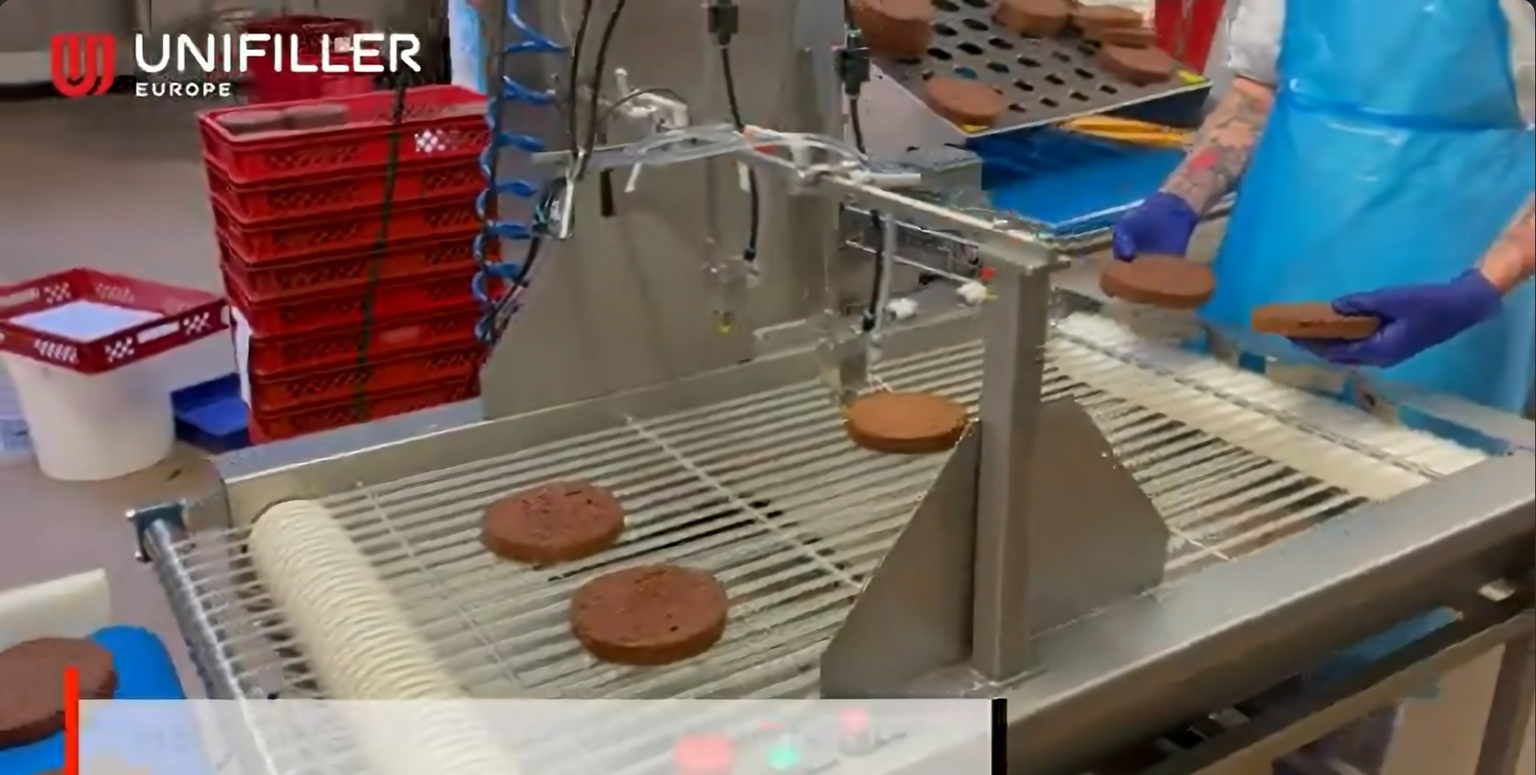Chocolate Cake: (574, 561, 729, 661), (471, 486, 624, 559), (843, 390, 974, 450), (1102, 247, 1214, 307), (1246, 289, 1377, 340), (860, 1, 932, 62), (926, 76, 1001, 123), (1073, 3, 1153, 43), (1100, 43, 1175, 84), (995, 1, 1068, 35)
